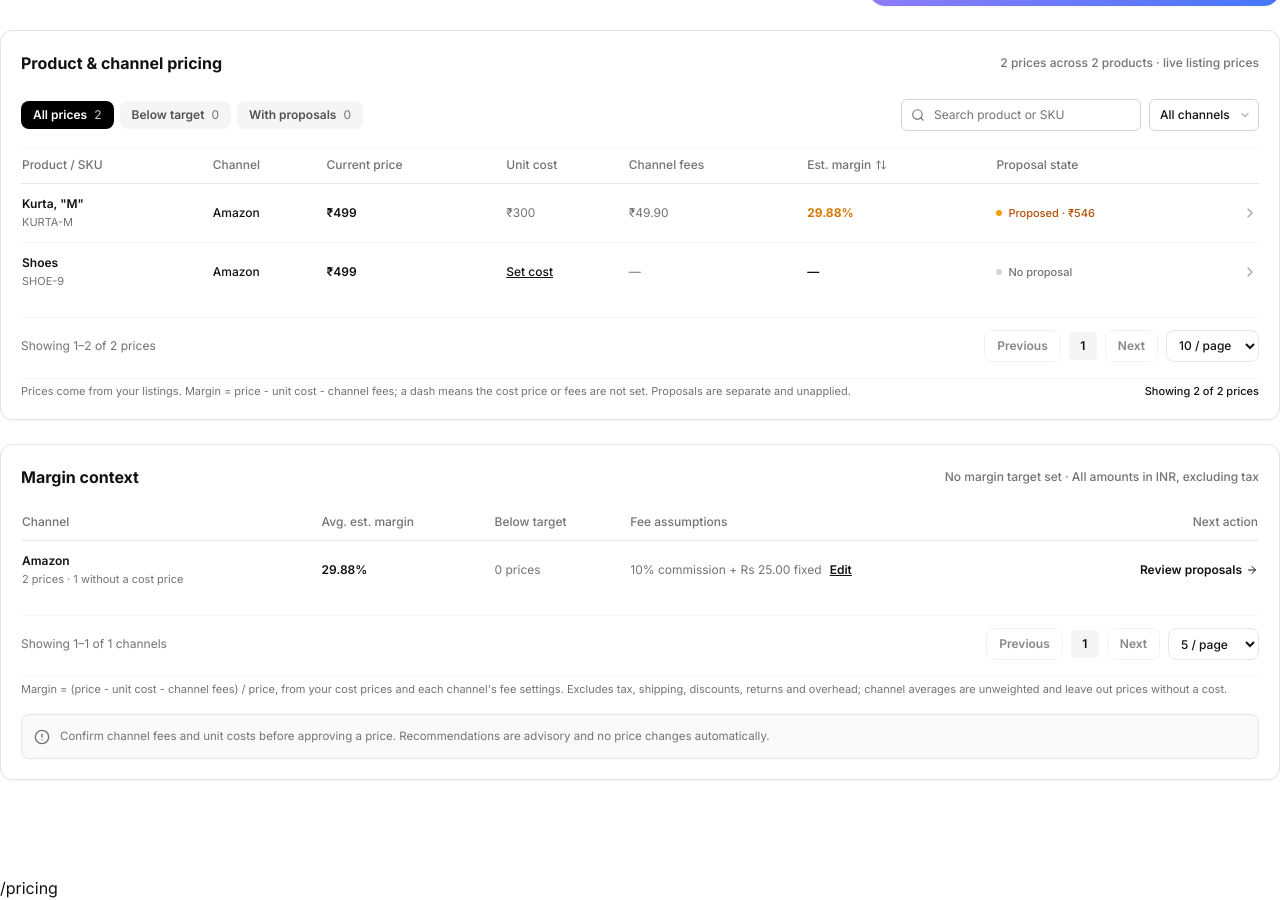
Scenario: Channel fee editor › opens from the Margin context row with the saved values, and shows a server error
(page scrolled)
Click the button with aria-label "Edit fees for Amazon" at [841, 570], box [830,562,852,578]
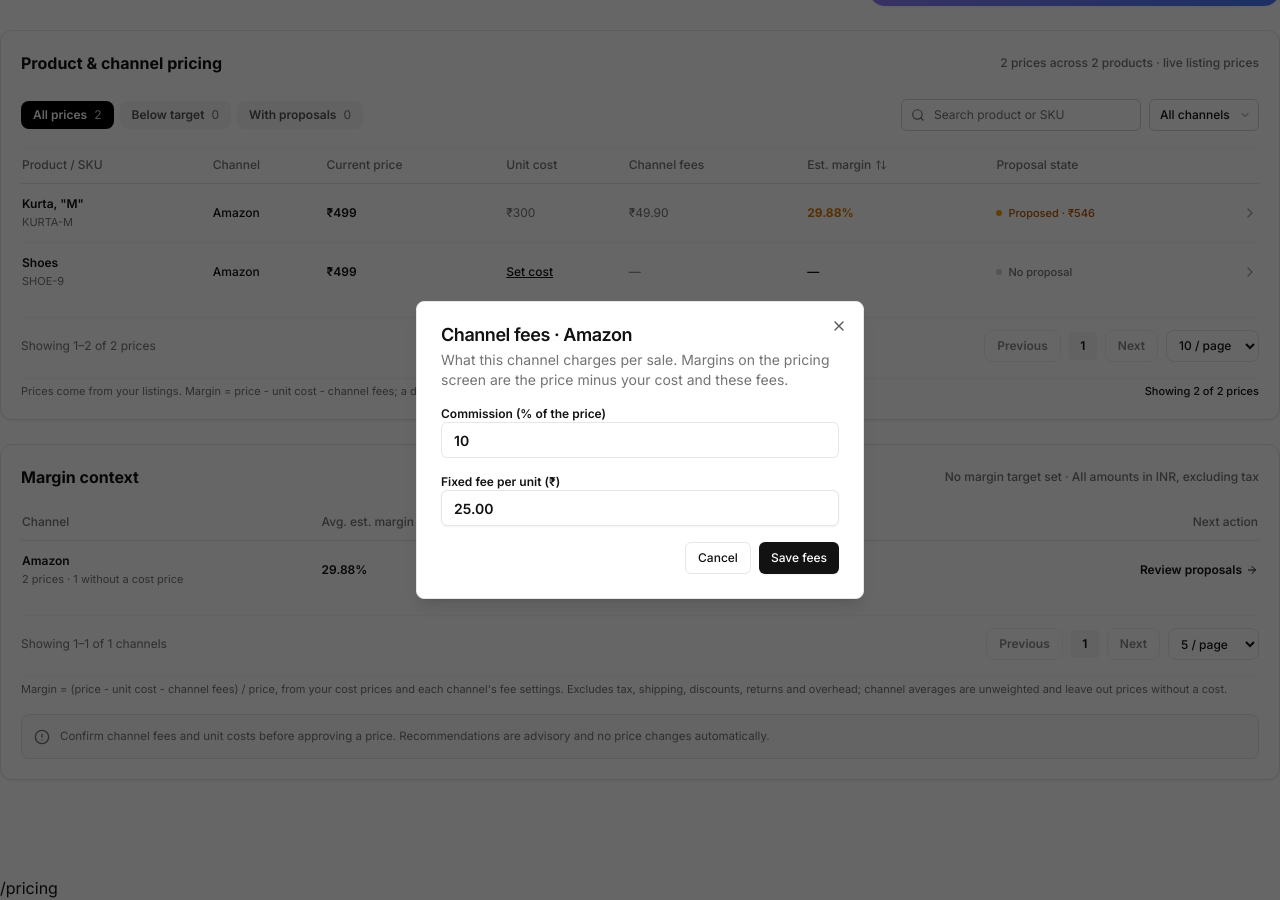
Expected: the field labelled "Commission (% of the price)" holds "10", [441,422,839,458]
Expected: the field labelled "Fixed fee per unit (₹)" holds "25.00", [441,490,839,526]
Click the button "Save fees" at [799, 558], box [759,542,839,574]
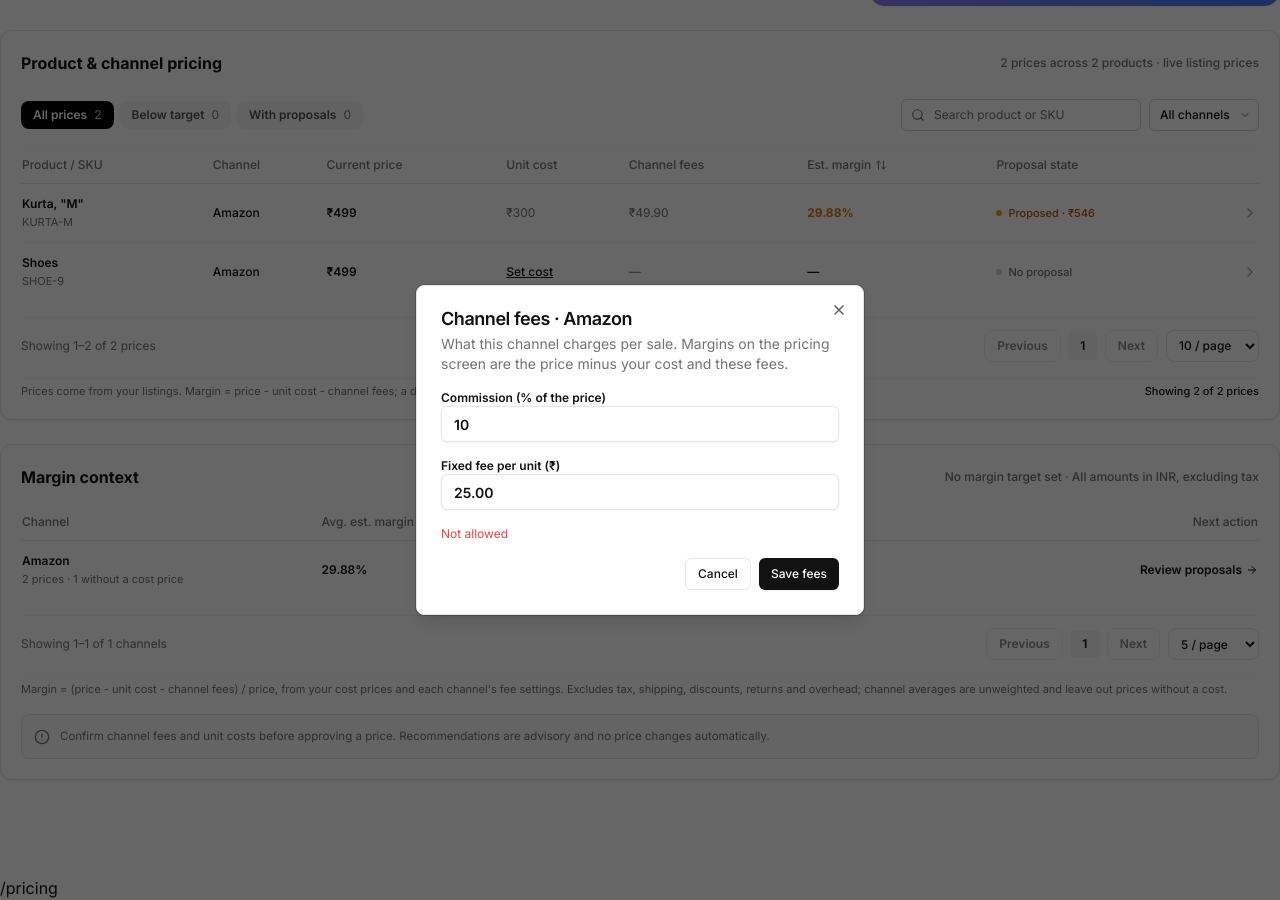
Expected: the text "Not allowed" is shown, [441,526,508,541]
